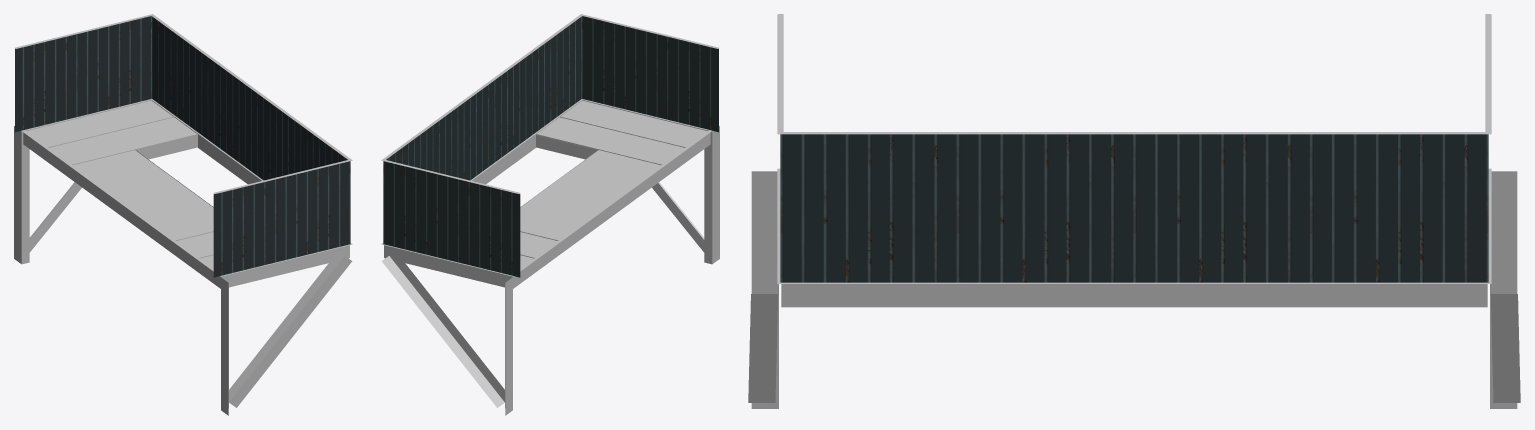
Rendered from Fire_escape3_LOD2.fbx.
3 views of the same model, side by side, from view 1: azimuth 30°, elevation 25°; view 2: azimuth 150°, elevation 25°; view 3: azimuth 270°, elevation 25° (orthographic). The views are drawn at different scales.
Parts seen in each view (by area): view 1: polySurface950; view 2: polySurface950; view 3: polySurface950.
Part boxes in pixels (x1=…): polySurface950: x1=14, y1=14, x2=352, y2=415; polySurface950: x1=381, y1=14, x2=719, y2=415; polySurface950: x1=748, y1=14, x2=1520, y2=408.
Size of the model in its own units: 1.62 by 2.43 by 4.38.
